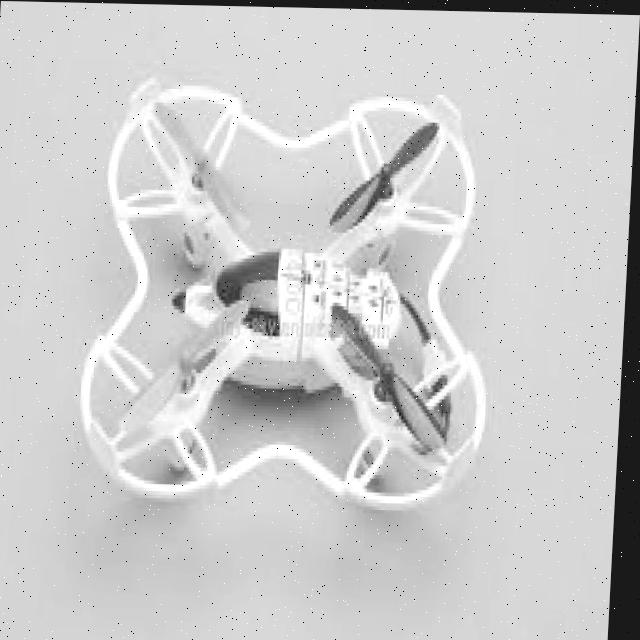drone: (70, 60, 533, 533)
